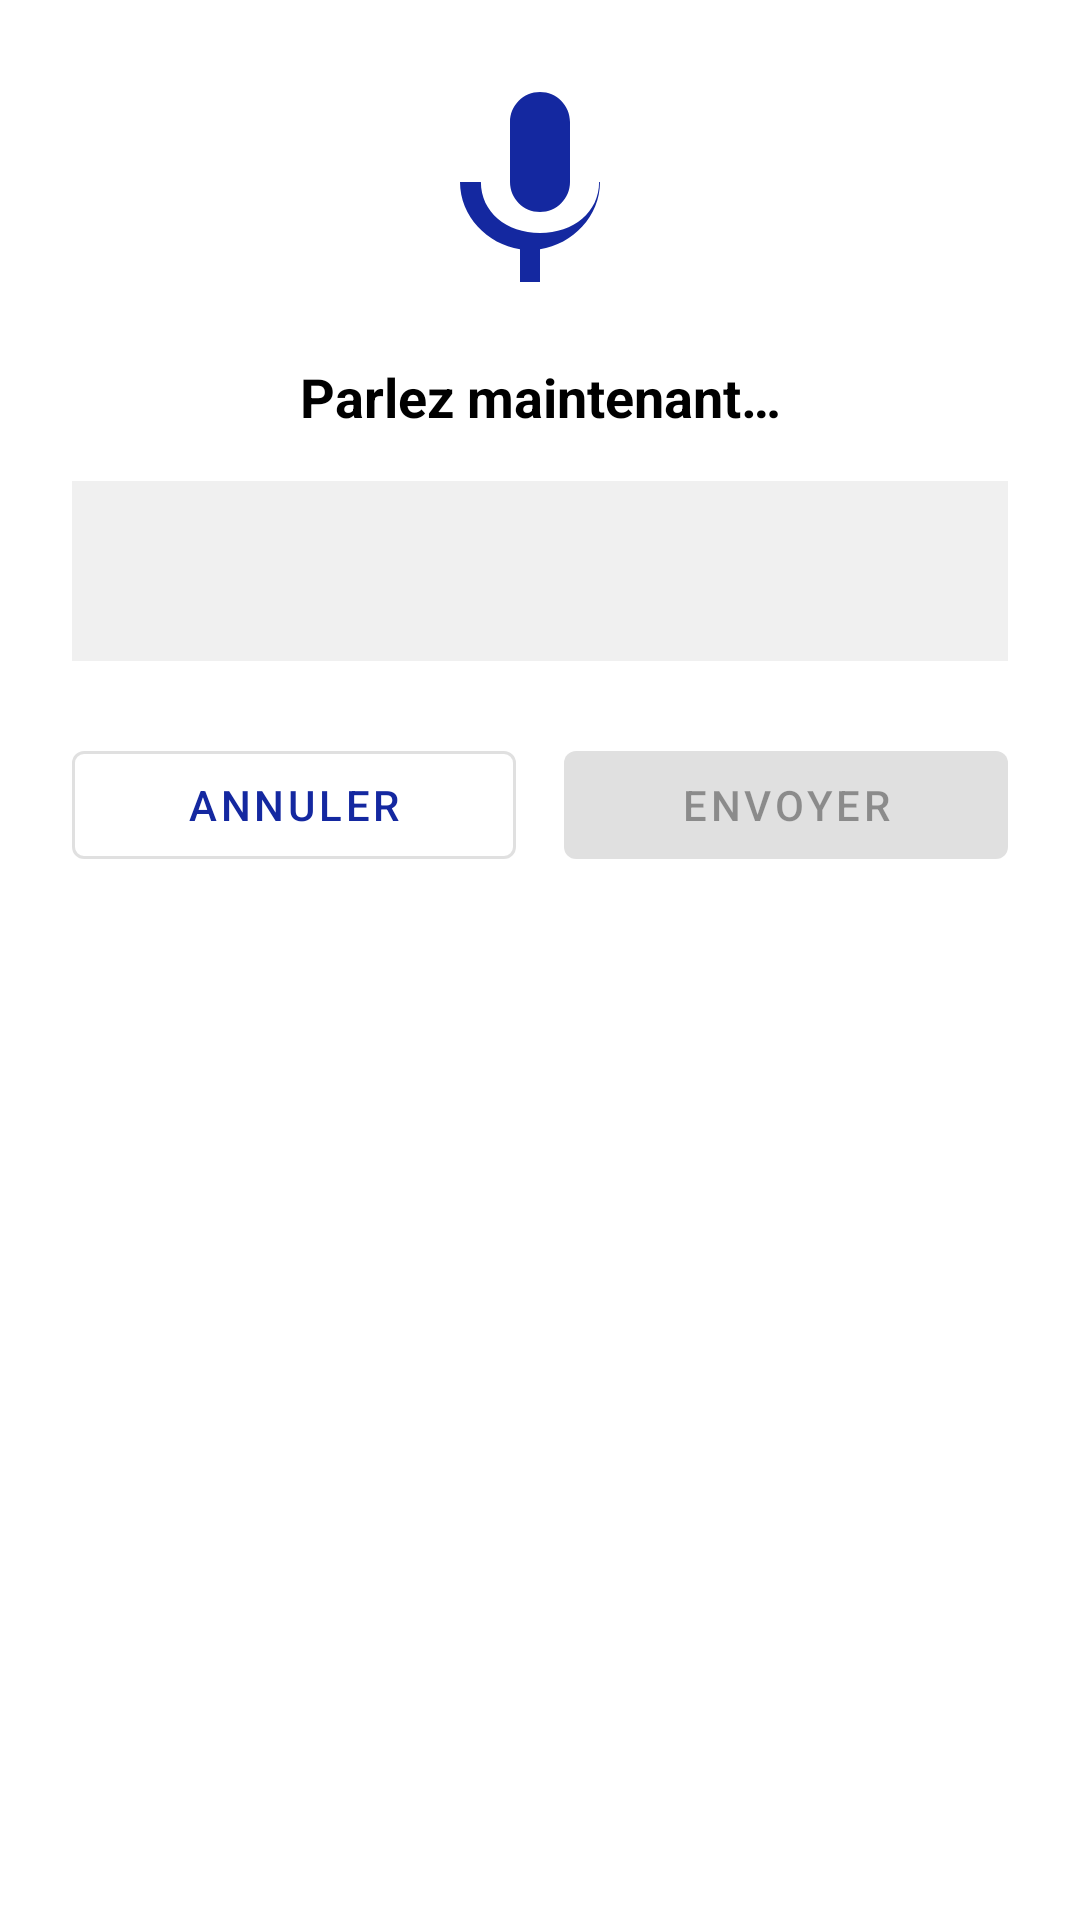

Icon click points for this 1080px×1920px phone screenshot, format point (x, y):
microphone: point (530, 187)
